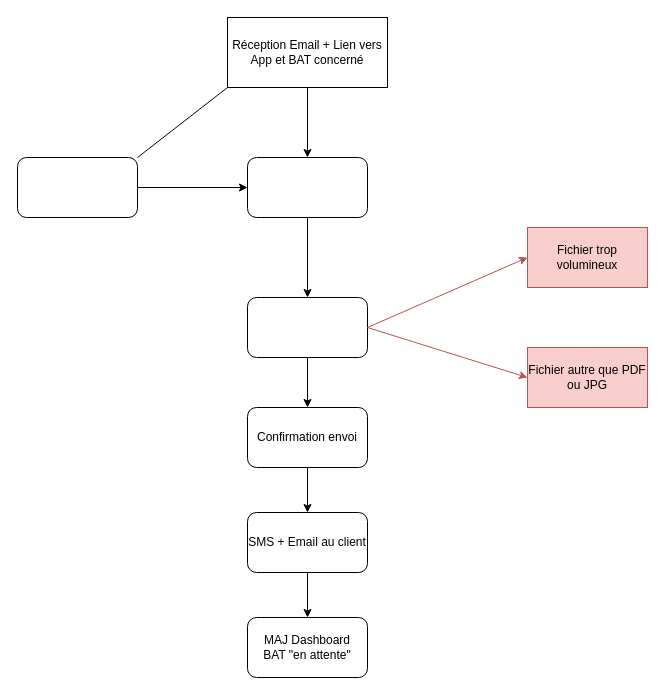
Image size: 665x695. Some labels were removed from this diagram. Each missing label, with the centre of its shape:
Dashboard avec liste de BAT refusé(s): (x=77, y=187)
Redirection vers BAT refusé: (x=307, y=187)
Upload BAT (avec correction prise en compte) + MAJ date livraison: (x=307, y=327)
